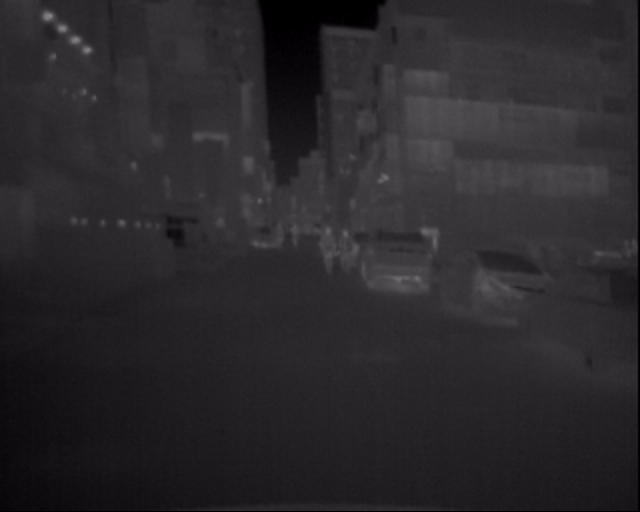person: (340, 221, 360, 261), (321, 223, 341, 262)
